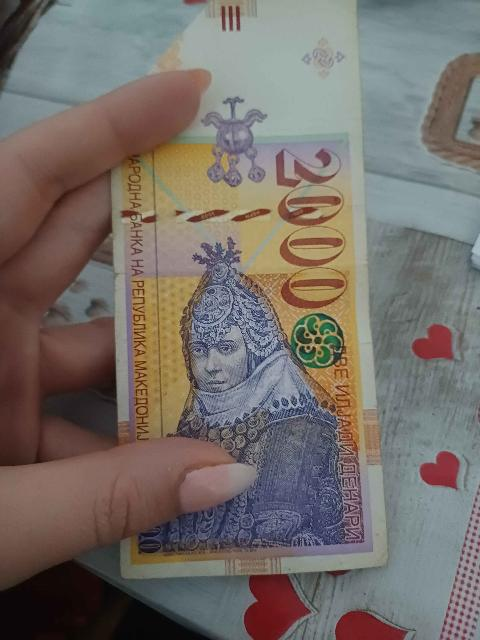2000_note: (114, 76, 385, 576)
